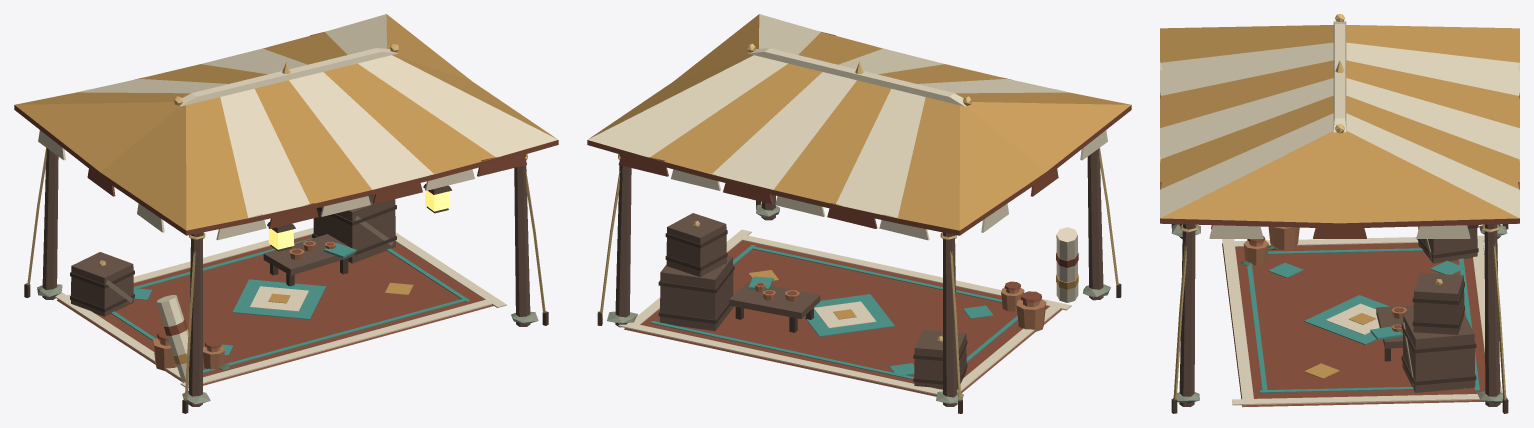
The model's file is market_tent.glb.
The picture shows the model from 3 angles, left to right: view 1: azimuth 30°, elevation 25°; view 2: azimuth 150°, elevation 25°; view 3: azimuth 270°, elevation 25°; orthographic projection. The views are drawn at different scales.
Visible parts, largest first — view 1: market_tent; view 2: market_tent; view 3: market_tent.
Part boxes in pixels (x1,y1,x2,y2): market_tent: (14,14,558,413); market_tent: (587,14,1131,413); market_tent: (1160,14,1519,413).
Size of the model in its own units: 5 by 3.2 by 4.
